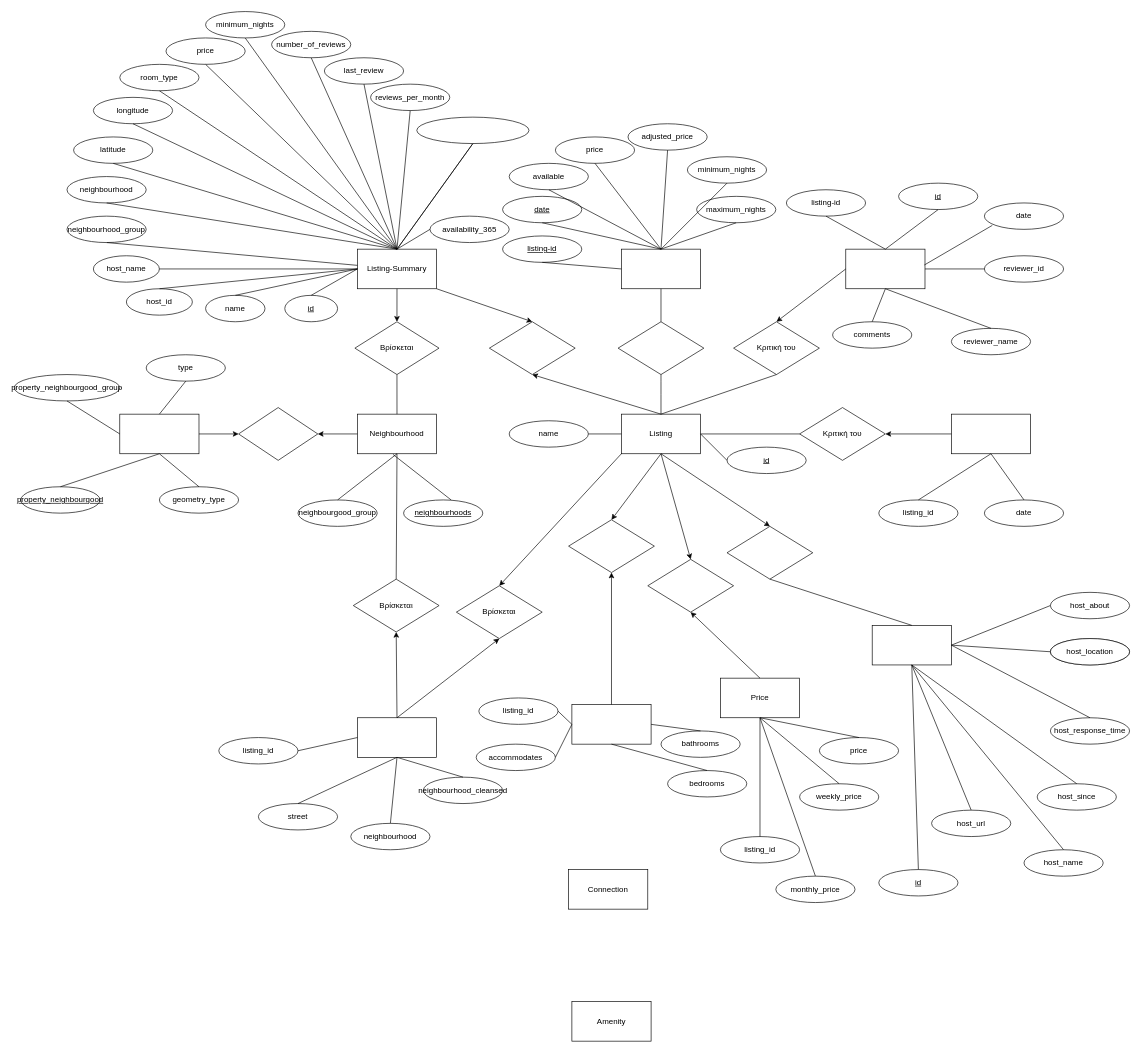
Some shapes in this 1141 by 1053 pixel diagram are drawn without their labels. The shapes that lost their labels are listed below. From the top down, each one's centre as x and y in pixels, then its label:
point (472, 130): calculated_host_listings_count
point (661, 268): Calendar
point (885, 268): Review
point (532, 348): Περίληψη πληροφοριών του
point (660, 348): Ημερομηνία κράτησης
point (159, 433): Geolocation
point (278, 433): Συντεταγμένες διαμερίσματος και γειτονίας
point (991, 433): Review-Summary
point (611, 546): Στοιχεία
point (769, 552): Ιδιοκτήτης
point (690, 585): Τιμή του
point (911, 645): Host
point (397, 737): Location
point (611, 724): Room
